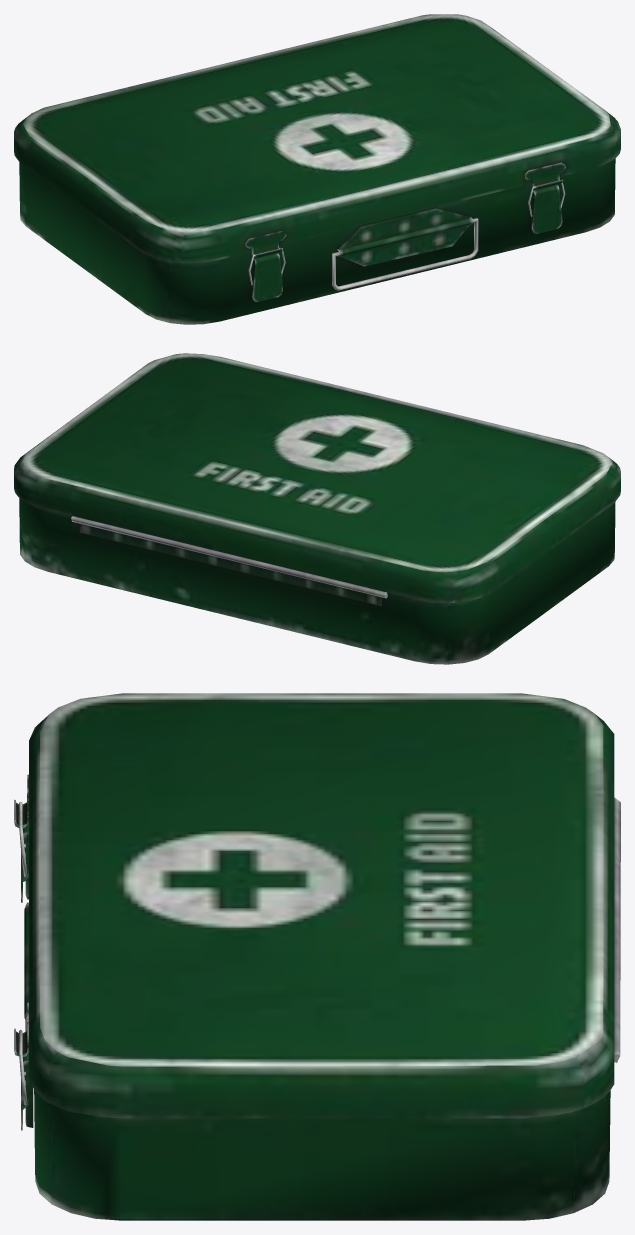
The model's file is medical_box.glb.
3 renders of one model, top to bottom at view 1: azimuth 30°, elevation 25°; view 2: azimuth 150°, elevation 25°; view 3: azimuth 270°, elevation 25°, orthographic. The views are drawn at different scales.
Visible parts, largest first — view 1: medical_box_lid, medical_box, medical_box_latch, medical_box_handle; view 2: medical_box_lid, medical_box; view 3: medical_box_lid, medical_box.
Boxes of the visible parts, x1=… form: medical_box_lid: x1=14, y1=14, x2=620, y2=263; medical_box: x1=19, y1=158, x2=615, y2=324; medical_box_latch: x1=251, y1=185, x2=562, y2=301; medical_box_handle: x1=332, y1=218, x2=478, y2=290; medical_box_lid: x1=14, y1=353, x2=620, y2=603; medical_box: x1=19, y1=498, x2=615, y2=664; medical_box_lid: x1=14, y1=693, x2=614, y2=1118; medical_box: x1=24, y1=797, x2=620, y2=1220.
Bounding box in the file's own units: 0.5255 × 0.0967 × 0.3501.
1 material, 1 textured.
